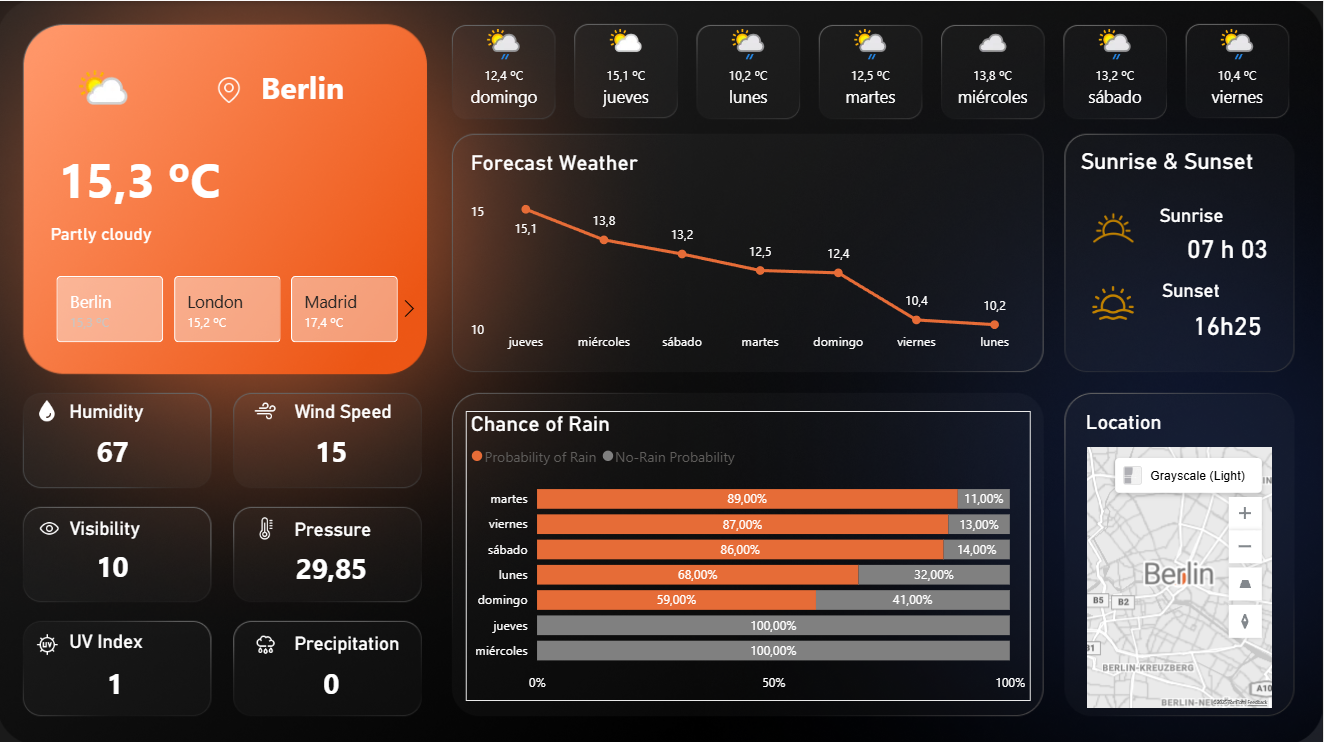

The dashboard page shown, as its layout file describes it:
{"tool":"powerbi","page":{"name":"Página 1","canvas":[1280,720],"ordinal":0},"visuals":[{"type":"advancedSlicerVisual","fields":{"Values":["Locations.location.name"],"Label":["_Measures.Curr_Temp_C"]},"box":[32.6,260.6,380,74.8],"z":0},{"type":"shape","box":[51.9,139.9,171.3,61.5],"z":1000},{"type":"shape","box":[51.9,214.7,171.3,26.5],"z":2000},{"type":"shape","box":[254.6,62.4,143.6,44.6],"z":3000},{"type":"image","box":[202.7,68.5,42.2,35],"z":4000},{"type":"cardVisual","fields":{"Data":["Min(Current.current.condition.icon)"]},"box":[32.6,27.7,123.1,123.1],"z":5000},{"type":"image","box":[27.4,494,45.3,31.6],"z":6000},{"type":"shape","title":"Humidity","box":[70,385.6,111.1,23.3],"z":7000},{"type":"image","box":[223.7,380.1,71.4,31.6],"z":8000},{"type":"image","box":[231.9,605.1,54.9,31.6],"z":9000},{"type":"image","box":[19.2,605.1,59,31.6],"z":10000},{"type":"image","box":[240.1,494,38.4,31.6],"z":11000},{"type":"image","box":[32.9,380.1,31.6,31.6],"z":12000},{"type":"shape","title":"Visibility","box":[70,498.1,111.1,23.3],"z":13000},{"type":"shape","title":"UV Index","box":[70,607.9,111.1,23.3],"z":14000},{"type":"shape","title":"Precipitation","box":[286.8,609.3,111.1,23.3],"z":15000},{"type":"shape","title":"Pressure","box":[286.8,499.5,111.1,23.3],"z":16000},{"type":"shape","title":"Wind Speed","box":[286.8,385.6,111.1,23.3],"z":17000},{"type":"card","fields":{"Values":["Sum(Current.current.humidity)"]},"box":[48.7,411.5,126.8,48.7],"z":18000},{"type":"card","fields":{"Values":["Sum(Current.current.wind_kph)"]},"box":[259.6,411.5,126.8,48.7],"z":19000},{"type":"card","fields":{"Values":["Sum(Current.current.vis_km)"]},"box":[48.7,522.1,126.8,48.7],"z":20000},{"type":"card","fields":{"Values":["Sum(Current.current.uv)"]},"box":[50.1,635.7,126.8,48.7],"z":21000},{"type":"card","fields":{"Values":["Sum(Current.current.precip_in)"]},"box":[259.6,635.7,126.8,48.7],"z":22000},{"type":"card","fields":{"Values":["Sum(Current.current.pressure_in)"]},"box":[259.6,525.1,126.8,48.7],"z":23000},{"type":"advancedSlicerVisual","fields":{"Values":["Forecast_Days.Day_Name"]},"box":[424.8,14.7,843.7,107.7],"z":24000},{"type":"lineChart","title":"Forecast Weather","fields":{"Category":["Forecast_Days.Day_Name"],"Y":["Sum(Forecast_Days.forecast.forecastday.day.avgtemp_c)"]},"box":[452.8,143.1,545.7,203.5],"z":25000},{"type":"shape","title":"Sunrise & Sunset","box":[1045.6,142.7,192.1,31.6],"z":26000},{"type":"shape","title":"Sunrise","box":[1122.5,196.2,111.1,23.3],"z":27000},{"type":"shape","title":"Sunset","box":[1123.8,269,111.1,23.3],"z":28000},{"type":"card","fields":{"Values":["Min(Forecast_Days.forecast.forecastday.astro.sunrise)"]},"box":[1122,217.2,131.5,43.4],"z":29000},{"type":"card","fields":{"Values":["Min(Forecast_Days.forecast.forecastday.astro.sunset)"]},"box":[1122,292,131.5,42.2],"z":30000},{"type":"image","box":[1026.7,188.2,101.3,61.5],"z":31000},{"type":"image","box":[1036.3,266.6,82,49.5],"z":32000},{"type":"hundredPercentStackedBarChart","title":"Chance of Rain","fields":{"Y":["Sum(Forecast_Days.forecast.forecastday.day.daily_chance_of_rain)","Current.Left_Value_Rain"],"Category":["Forecast_Days.Day_Name"]},"box":[452.4,395.7,545.3,279.9],"z":33000},{"type":"azureMap","fields":{"Category":["Locations.location.name"]},"box":[1047.2,425.9,188.2,261.8],"z":34000},{"type":"shape","title":"Location","box":[1050.8,395.7,153.2,22.9],"z":35000}]}

Visuals, with their boxes in screenshot pixels (x1, y1, x2, y2), scaled from the page's 1280x720 canvas onto the 1324x742 screenshot:
advancedSlicerVisual - Locations.location.name x _Measures.Curr_Temp_C: locate(34, 269, 427, 346)
shape: locate(54, 144, 231, 208)
shape: locate(54, 221, 231, 249)
shape: locate(263, 64, 412, 110)
image: locate(210, 71, 253, 107)
cardVisual - Min(Current.current.condition.icon): locate(34, 29, 161, 155)
image: locate(28, 509, 75, 542)
"Humidity" shape: locate(72, 397, 187, 421)
image: locate(231, 392, 305, 424)
image: locate(240, 624, 297, 656)
image: locate(20, 624, 81, 656)
image: locate(248, 509, 288, 542)
image: locate(34, 392, 67, 424)
"Visibility" shape: locate(72, 513, 187, 537)
"UV Index" shape: locate(72, 626, 187, 650)
"Precipitation" shape: locate(297, 628, 412, 652)
"Pressure" shape: locate(297, 515, 412, 539)
"Wind Speed" shape: locate(297, 397, 412, 421)
card - Sum(Current.current.humidity): locate(50, 424, 182, 474)
card - Sum(Current.current.wind_kph): locate(269, 424, 400, 474)
card - Sum(Current.current.vis_km): locate(50, 538, 182, 588)
card - Sum(Current.current.uv): locate(52, 655, 183, 705)
card - Sum(Current.current.precip_in): locate(269, 655, 400, 705)
card - Sum(Current.current.pressure_in): locate(269, 541, 400, 591)
advancedSlicerVisual - Forecast_Days.Day_Name: locate(439, 15, 1312, 126)
"Forecast Weather" lineChart: locate(468, 147, 1033, 357)
"Sunrise & Sunset" shape: locate(1082, 147, 1280, 180)
"Sunrise" shape: locate(1161, 202, 1276, 226)
"Sunset" shape: locate(1162, 277, 1277, 301)
card - Min(Forecast_Days.forecast.forecastday.astro.sunrise): locate(1161, 224, 1297, 269)
card - Min(Forecast_Days.forecast.forecastday.astro.sunset): locate(1161, 301, 1297, 344)
image: locate(1062, 194, 1167, 257)
image: locate(1072, 275, 1157, 326)
"Chance of Rain" hundredPercentStackedBarChart: locate(468, 408, 1032, 696)
azureMap - Locations.location.name: locate(1083, 439, 1278, 709)
"Location" shape: locate(1087, 408, 1245, 431)
